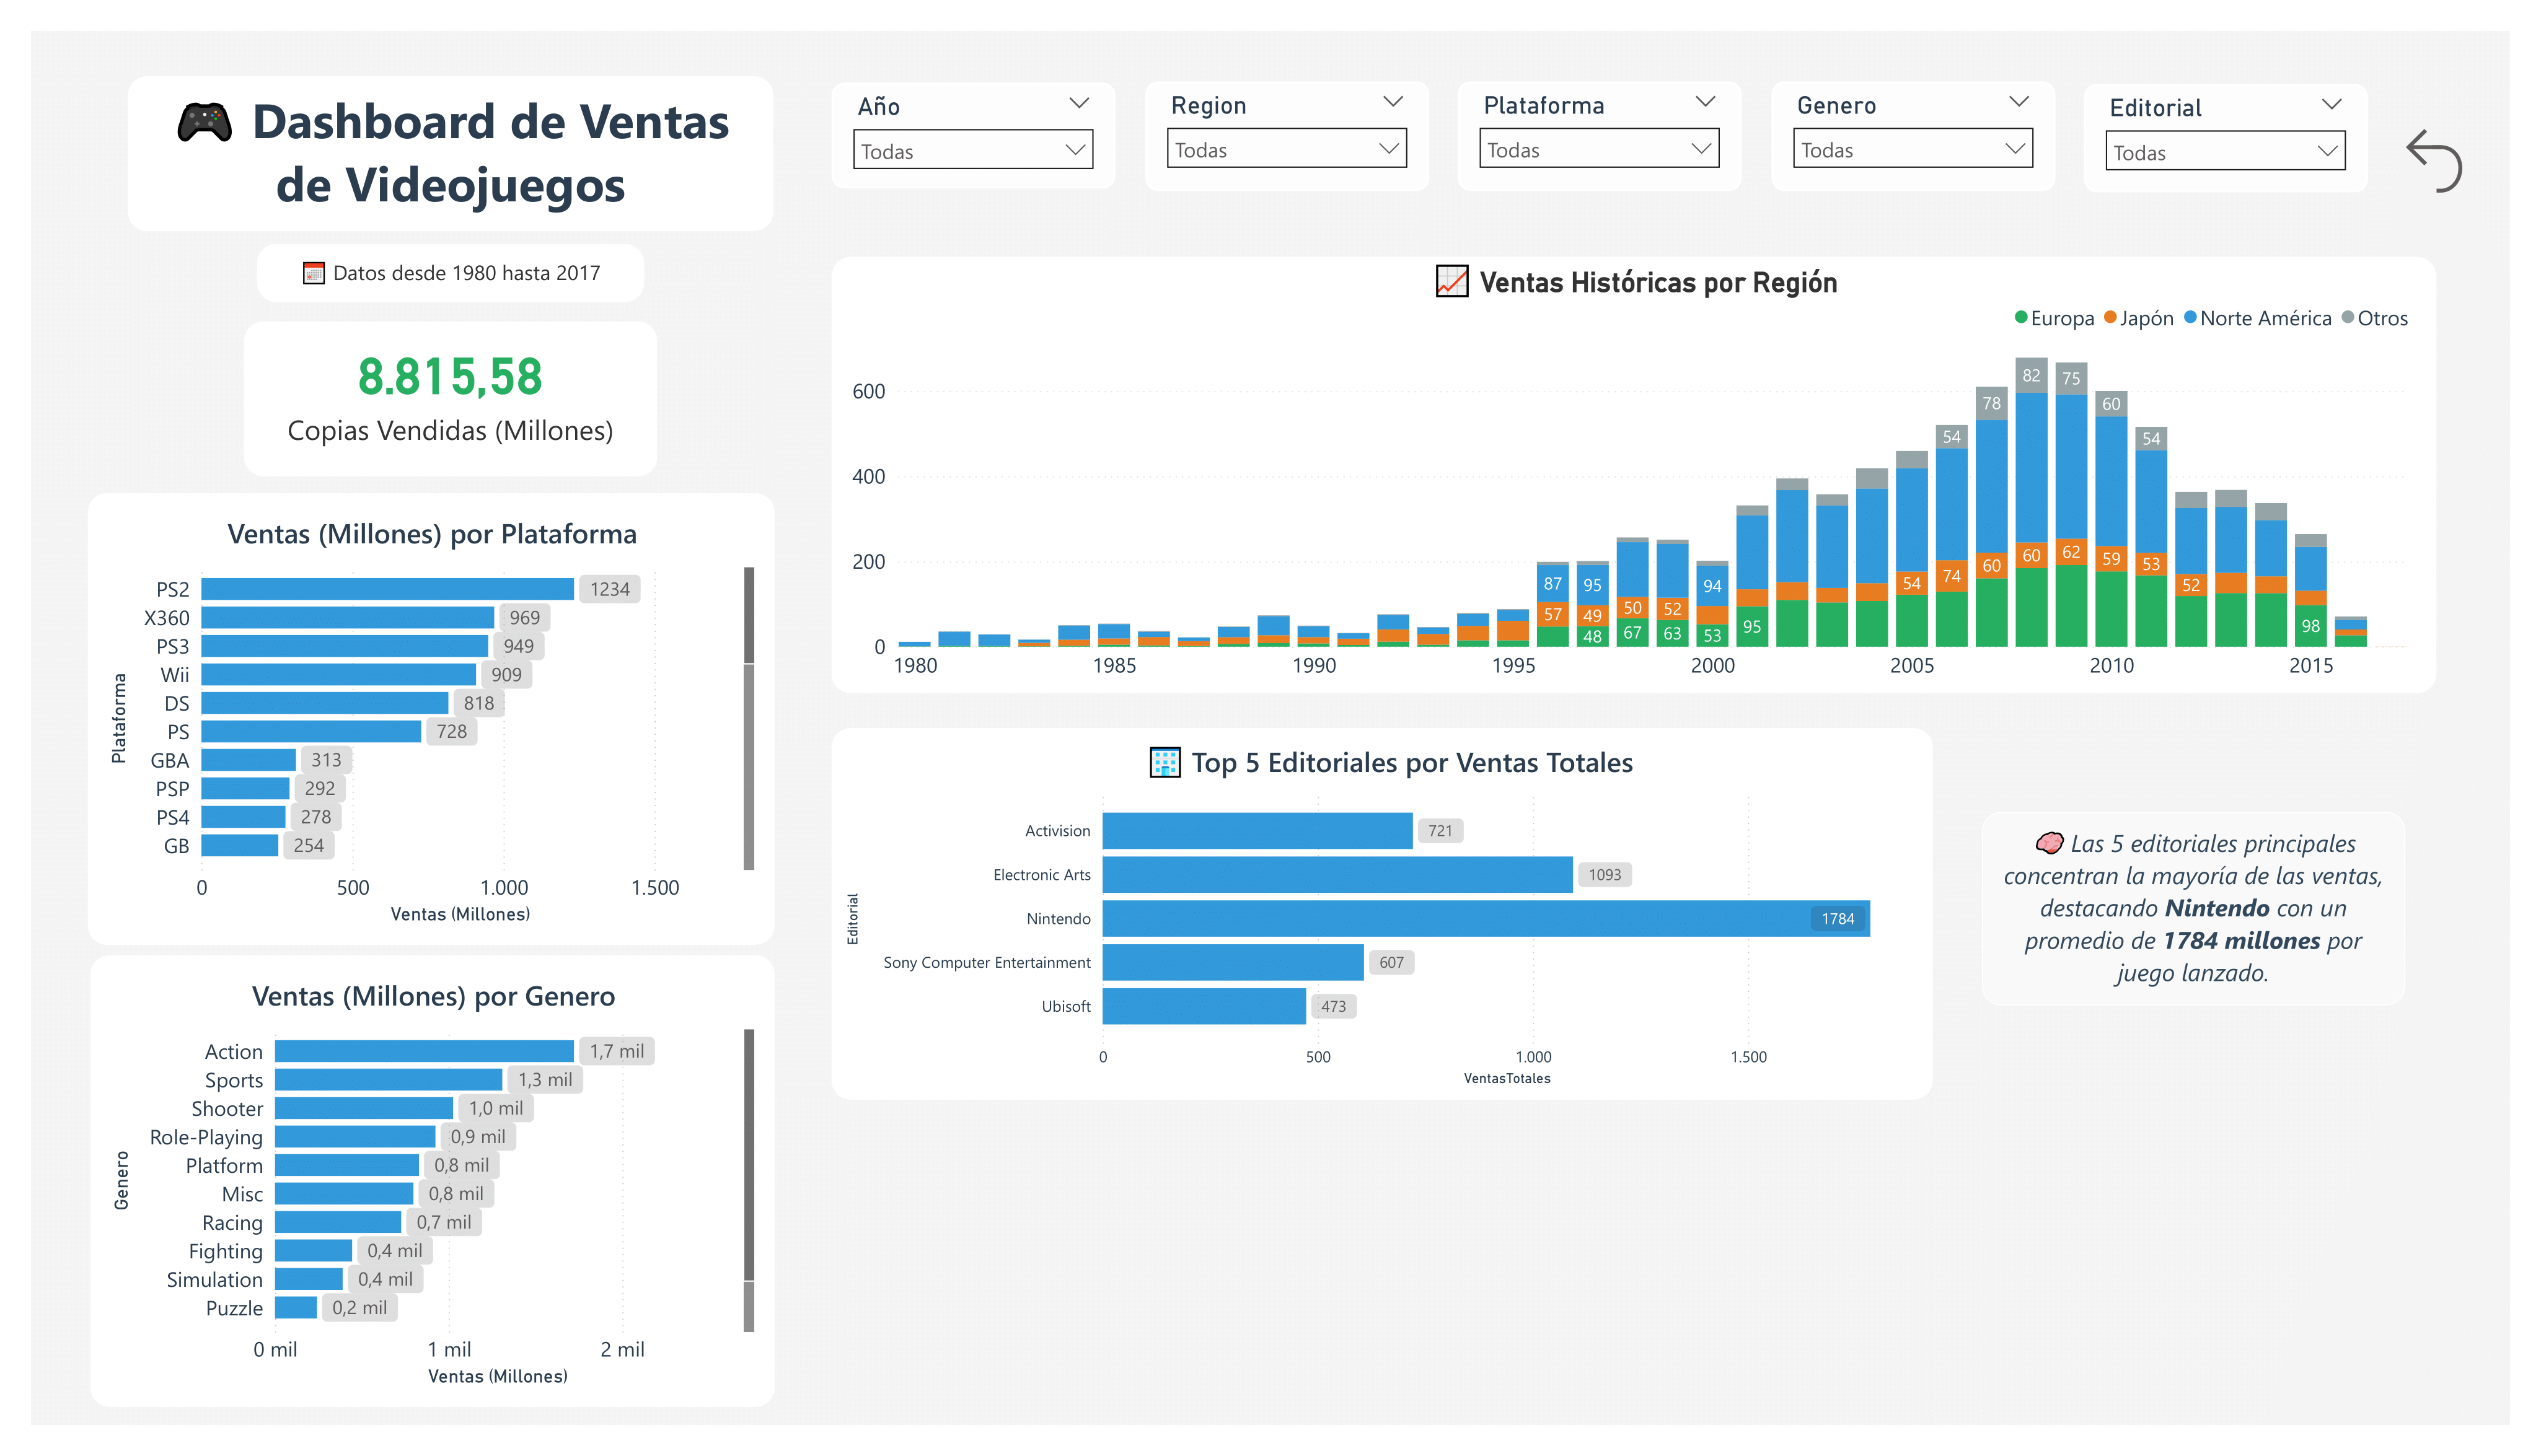

Layout of this report page (visuals, bound fields, positions):
{"tool":"powerbi","page":{"name":"Principal","canvas":[1920,1080],"ordinal":0},"visuals":[{"type":"card","fields":{"Values":["Sum(Ventas Videojuegos.Ventas (Millones))"]},"box":[165,225,320,120],"z":0},{"type":"columnChart","title":"📈 Ventas Históricas por Región","fields":{"Category":["Ventas Videojuegos.Año"],"Y":["Sum(Ventas Videojuegos.Ventas (Millones))"],"Series":["Ventas Videojuegos.Region"]},"box":[620,166,1242,312],"z":1000},{"type":"barChart","fields":{"Y":["Sum(Ventas Videojuegos.Ventas (Millones))"],"Category":["Ventas Videojuegos.Plataforma"]},"box":[43.8,357.5,532.5,350],"z":2000},{"type":"barChart","fields":{"Y":["Sum(Ventas Videojuegos.Ventas (Millones))"],"Category":["Ventas Videojuegos.Genero"]},"box":[46,716,530,336],"z":3000},{"type":"slicer","fields":{"Values":["Ventas Videojuegos.Año"]},"box":[620,39.8,220,82.5],"z":4000},{"type":"slicer","fields":{"Values":["Ventas Videojuegos.Region"]},"box":[862.5,38.7,220,85.5],"z":5000},{"type":"slicer","fields":{"Values":["Ventas Videojuegos.Plataforma"]},"box":[1105,38.7,220,85.5],"z":6000},{"type":"slicer","fields":{"Values":["Ventas Videojuegos.Genero"]},"box":[1347.5,38.9,220,85],"z":7000},{"type":"slicer","fields":{"Values":["Ventas Videojuegos.Editorial"]},"box":[1590,41.3,220,84],"z":8000},{"type":"textbox","box":[75,35,500,120],"z":9000},{"type":"actionButton","box":[1830,65,62.5,70],"z":10000},{"type":"barChart","title":"🏢 Top 5 Editoriales por Ventas Totales","fields":{"Category":["Ventas_Videojuegos.Editorial"],"Y":["Medidas.VentasTotales"]},"box":[620,504,856,288],"z":11000},{"type":"textbox","box":[1498,562,348,170],"z":12000},{"type":"textbox","box":[151.1,165.6,348.9,46.7],"z":13000},{"type":"textbox","box":[730,810,1062,242],"z":13001}]}

Visuals, with their boxes in screenshot pixels (x1, y1, x2, y2):
card - Sum(Ventas Videojuegos.Ventas (Millones)): bbox=[244, 322, 657, 476]
"📈 Ventas Históricas por Región" columnChart: bbox=[832, 245, 2435, 648]
barChart - Sum(Ventas Videojuegos.Ventas (Millones)) x Ventas Videojuegos.Plataforma: bbox=[87, 493, 775, 944]
barChart - Sum(Ventas Videojuegos.Ventas (Millones)) x Ventas Videojuegos.Genero: bbox=[90, 955, 775, 1389]
slicer - Ventas Videojuegos.Año: bbox=[832, 82, 1116, 189]
slicer - Ventas Videojuegos.Region: bbox=[1145, 81, 1429, 191]
slicer - Ventas Videojuegos.Plataforma: bbox=[1458, 81, 1742, 191]
slicer - Ventas Videojuegos.Genero: bbox=[1771, 81, 2055, 191]
slicer - Ventas Videojuegos.Editorial: bbox=[2084, 84, 2368, 193]
textbox: bbox=[128, 76, 773, 231]
actionButton: bbox=[2394, 115, 2475, 205]
"🏢 Top 5 Editoriales por Ventas Totales" barChart: bbox=[832, 682, 1937, 1053]
textbox: bbox=[1965, 757, 2415, 976]
textbox: bbox=[226, 245, 677, 305]
textbox: bbox=[974, 1077, 2345, 1389]
